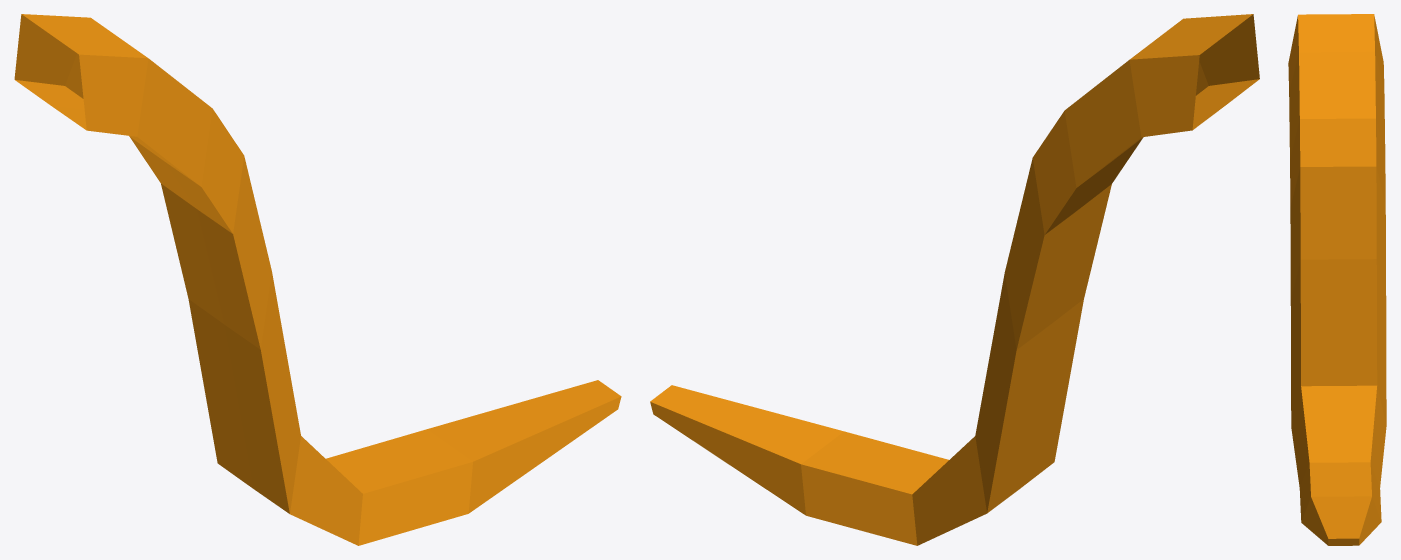
Rendered from Cola.obj.
3 renders of one model, left to right at view 1: azimuth 30°, elevation 25°; view 2: azimuth 150°, elevation 25°; view 3: azimuth 270°, elevation 25°, orthographic. The views are drawn at different scales.
Visible parts, largest first — view 1: polySurface1 TigreDos:Mesh1polySurface8polySurface5polySurface2p; view 2: polySurface1 TigreDos:Mesh1polySurface8polySurface5polySurface2p; view 3: polySurface1 TigreDos:Mesh1polySurface8polySurface5polySurface2p.
Part boxes in pixels (x1,y1,x2,y2): polySurface1 TigreDos:Mesh1polySurface8polySurface5polySurface2p: (14, 14, 621, 545); polySurface1 TigreDos:Mesh1polySurface8polySurface5polySurface2p: (650, 14, 1259, 545); polySurface1 TigreDos:Mesh1polySurface8polySurface5polySurface2p: (1288, 14, 1386, 545).
Size of the model in its own units: 0.7695 by 0.7282 by 0.1699.
Materials: 1 (1 with a texture image).
